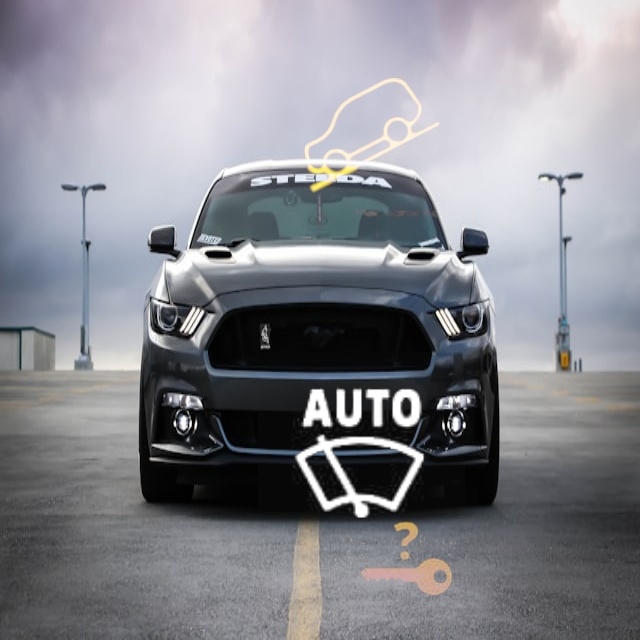symbol: (258, 352, 465, 559), (283, 47, 463, 227), (334, 488, 477, 631)
